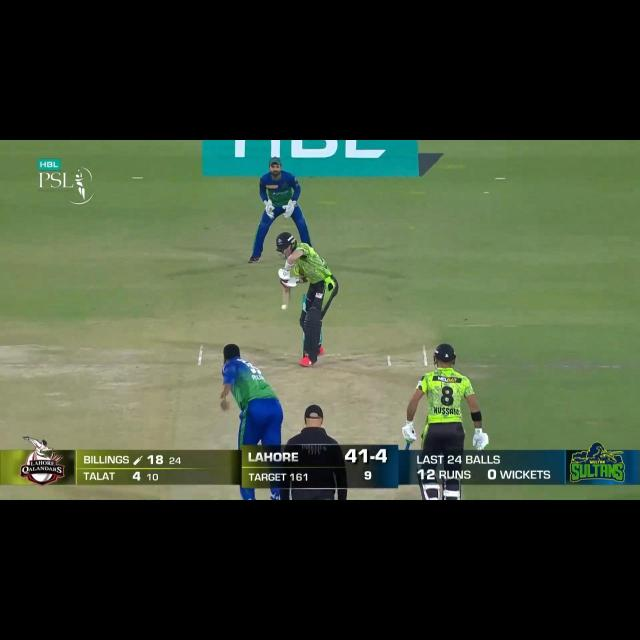bat: (280, 285, 293, 311)
toe: (280, 300, 289, 308)
